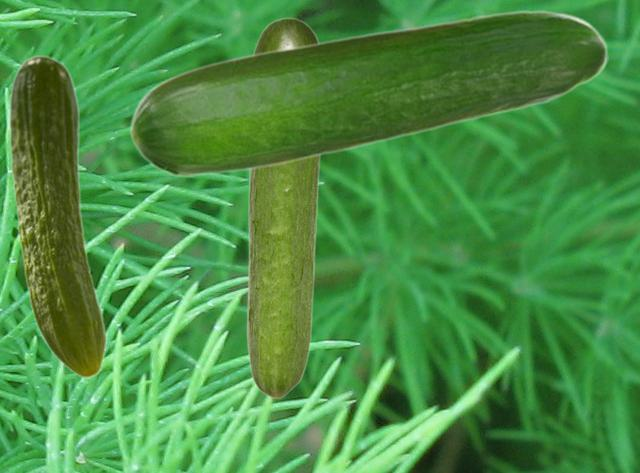cucumber: (129, 9, 607, 177), (8, 54, 106, 378), (246, 17, 322, 398)
